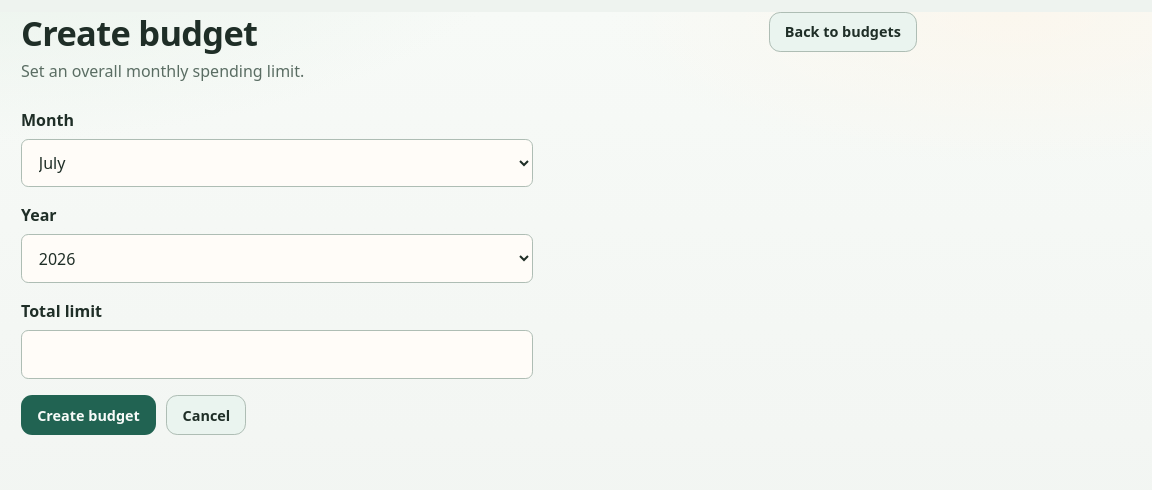
BudgetFormPage › shows duplicate budget error
This screenshot has width=1152, height=490.
In the field labelled "Total limit": (277, 355) [21,330,533,379], type "1000.00"
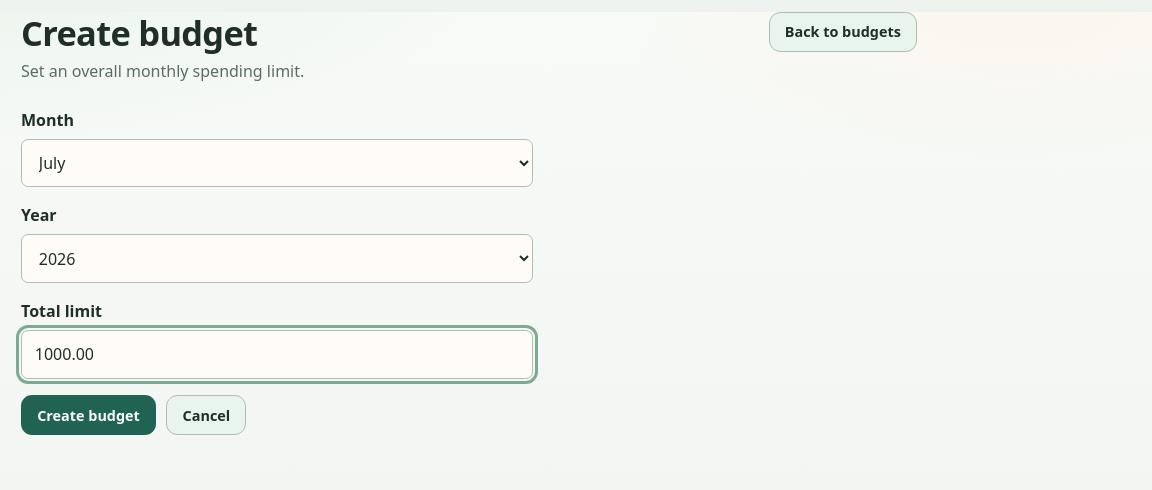
Click the button "Create budget": (88, 415) [21,395,156,435]
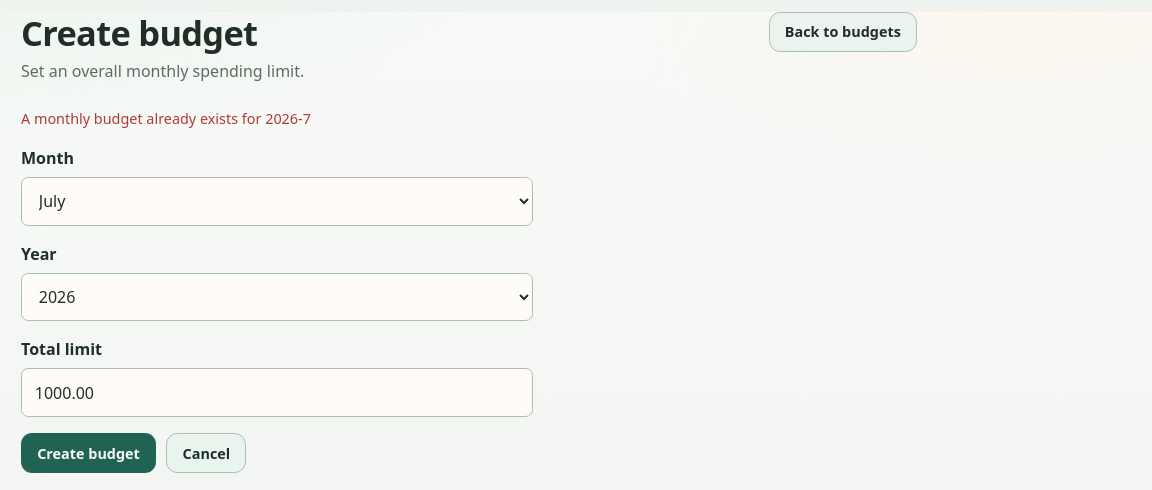
Check: the text "A monthly budget already exists for 2026-7" is shown, box [21,109,311,128]
